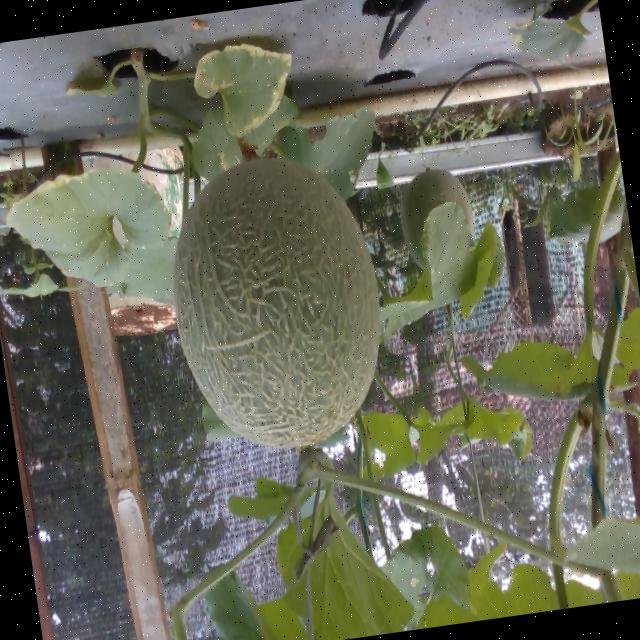melon: (172, 157, 378, 446)
